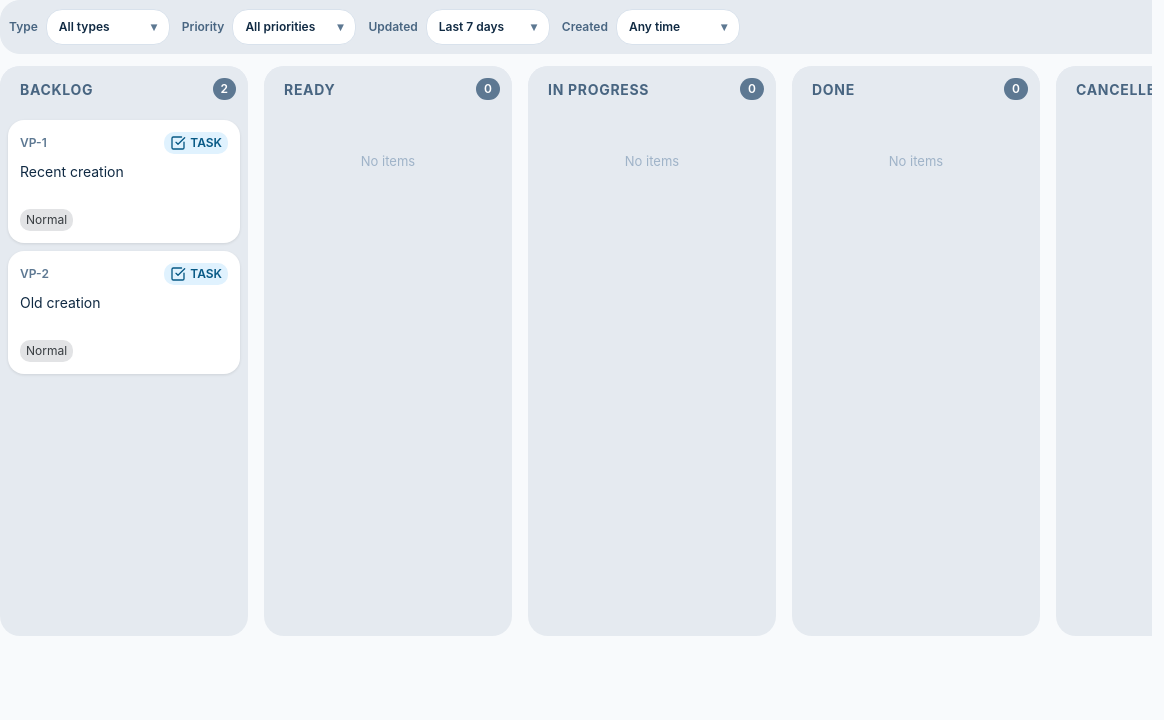
it: KanbanBoard › board filters › filters cards by created time range
Expected: the text "Recent creation" is shown, [20,163,124,180]
Click the button with aria-label "Created:" at (678, 27), box [616,9,740,45]
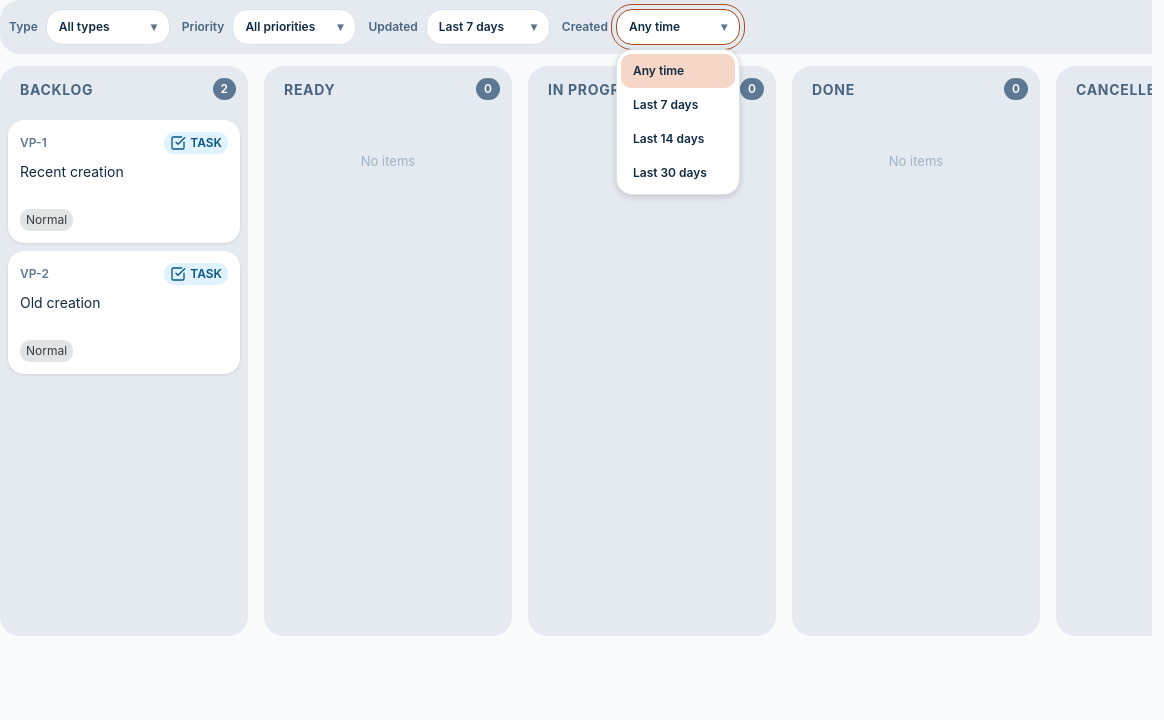
Click the option "Last 7 days" at (678, 105), box [621,88,735,122]
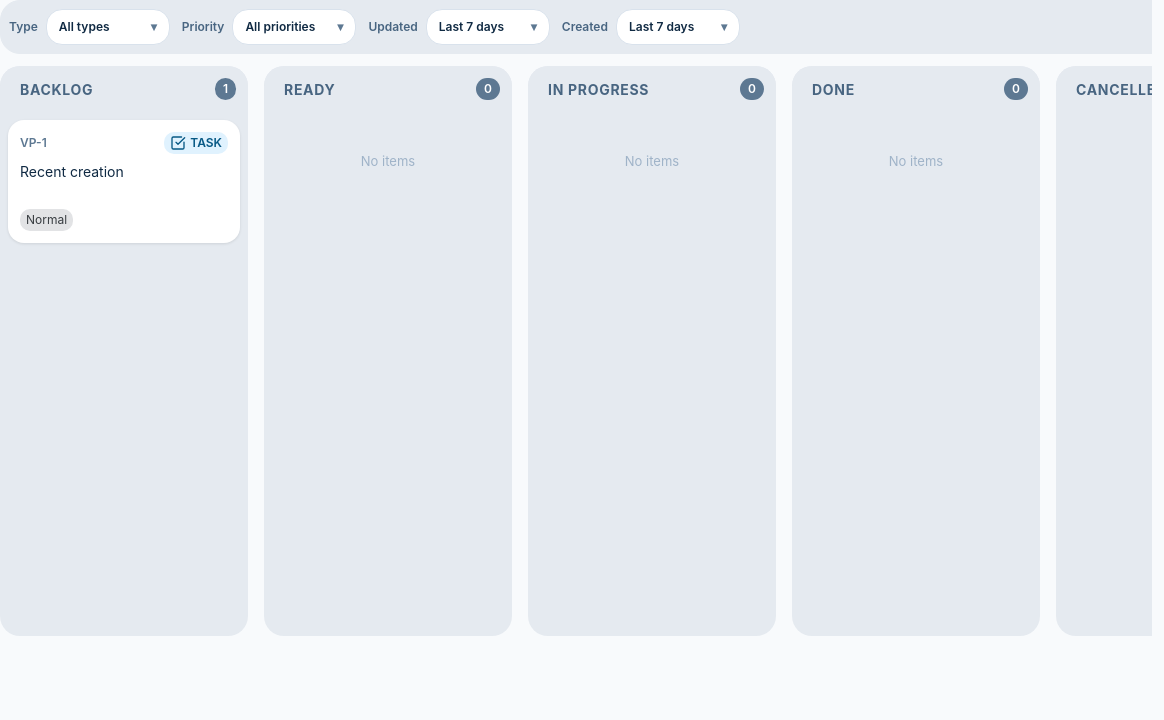
Expected: the text "Recent creation" is shown, [20,163,124,180]
Result: the button "Old creation" is gone
